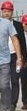boots: (4, 108, 12, 111), (0, 108, 7, 111)
gloves: (0, 63, 4, 80)
hard-hat: (0, 0, 13, 10)
